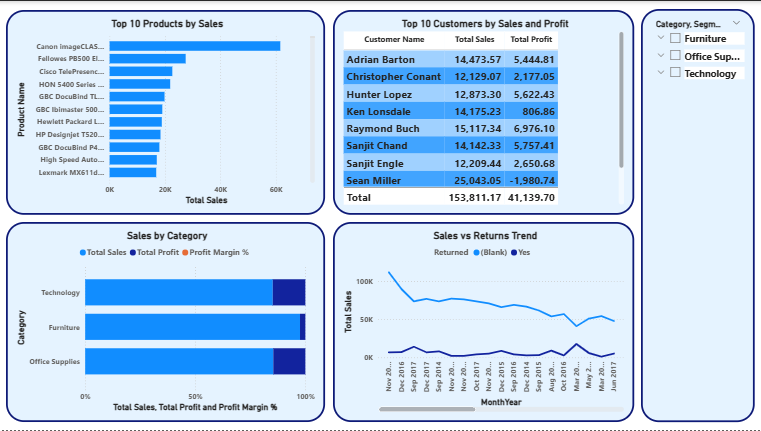

This screenshot's page, from the dashboard's own definition file:
{"tool":"powerbi","page":{"name":"Page 2","canvas":[1280,720],"ordinal":1},"visuals":[{"type":"clusteredBarChart","title":"Top 10 Products by Sales","fields":{"Category":["Orders.Product Name"],"Y":["Orders.Total Sales"]},"box":[10.1,15.1,535.9,344.4],"z":0},{"type":"hundredPercentStackedBarChart","title":"Sales by Category","fields":{"Category":["Orders.Category"],"Y":["Orders.Total Sales","Orders.Total Profit","Orders.Profit Margin %"]},"box":[10.1,371.2,535.9,336],"z":1000},{"type":"tableEx","title":"Top 10 Customers by Sales and Profit","fields":{"Values":["Orders.Customer Name","Orders.Total Sales","Orders.Total Profit"]},"box":[559.4,15.1,505.6,344.4],"z":2000},{"type":"lineChart","title":"Sales vs Returns Trend","fields":{"Category":["DateTable.MonthYear"],"Y":["Orders.Total Sales"],"Series":["Returns.Returned"]},"box":[559.4,371.2,505.6,336],"z":3000},{"type":"slicer","fields":{"Values":["Orders.Category","Orders.Segment","Orders.Region","DateTable.Year"]},"box":[1076.7,13.4,191.5,693.8],"z":4000}]}

Visuals, with their boxes in screenshot pixels (x1, y1, x2, y2), scaled from the page's 1280x720 canvas onto the 761x431 screenshot:
"Top 10 Products by Sales" clusteredBarChart: <region>6, 9, 325, 215</region>
"Sales by Category" hundredPercentStackedBarChart: <region>6, 222, 325, 423</region>
"Top 10 Customers by Sales and Profit" tableEx: <region>333, 9, 633, 215</region>
"Sales vs Returns Trend" lineChart: <region>333, 222, 633, 423</region>
slicer - Orders.Category x Orders.Segment: <region>640, 8, 754, 423</region>
